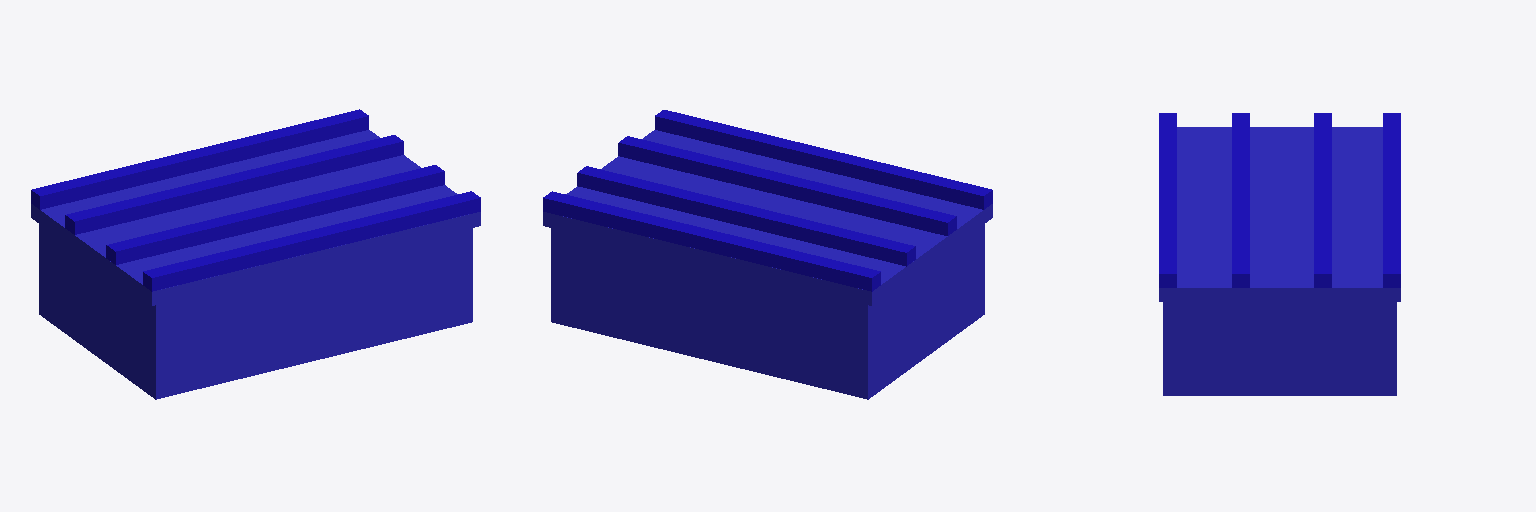
3 views of the same model, side by side, from view 1: azimuth 30°, elevation 25°; view 2: azimuth 150°, elevation 25°; view 3: azimuth 270°, elevation 25° (orthographic).
Parts seen in each view (by area): view 1: Cube, 큐브.002, 큐브, 큐브.003, 큐브.001; view 2: Cube, 큐브.002, 큐브, 큐브.001, 큐브.003; view 3: Cube, 큐브, 큐브.001, 큐브.002, 큐브.003.
Boxes of the visible parts, x1,y1,x2,y2 form: Cube: [31, 130, 480, 399]; 큐브.002: [65, 135, 403, 234]; 큐브: [106, 165, 444, 264]; 큐브.003: [143, 191, 480, 291]; 큐브.001: [31, 109, 368, 209]; Cube: [543, 130, 992, 399]; 큐브.002: [577, 166, 915, 266]; 큐브: [618, 136, 956, 235]; 큐브.001: [543, 191, 880, 291]; 큐브.003: [655, 110, 992, 209]; Cube: [1159, 127, 1400, 395]; 큐브: [1232, 113, 1249, 287]; 큐브.001: [1383, 113, 1400, 287]; 큐브.002: [1314, 113, 1331, 287]; 큐브.003: [1159, 113, 1176, 287].
Bounding box in the file's own units: 6.23 × 2.25 × 3.97.